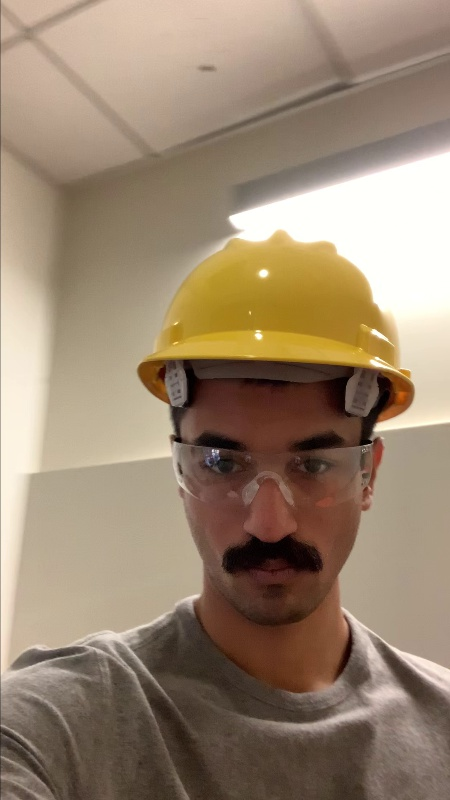glasses: (167, 432, 378, 516)
helmet: (124, 223, 423, 402)
